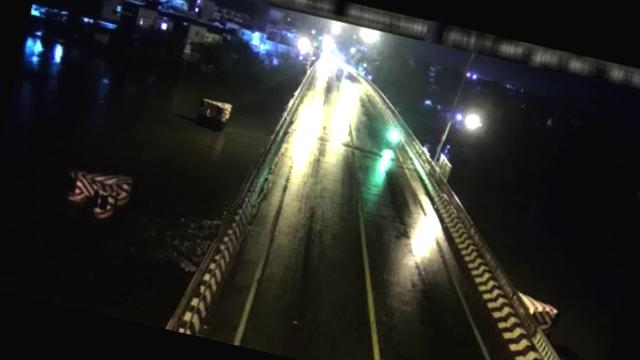Bike: (383, 126, 404, 147)
